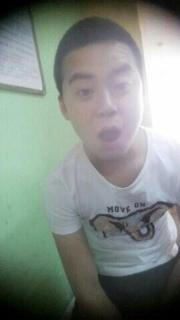short sleeve top: (45, 126, 179, 276)
trousers: (70, 248, 179, 319)
